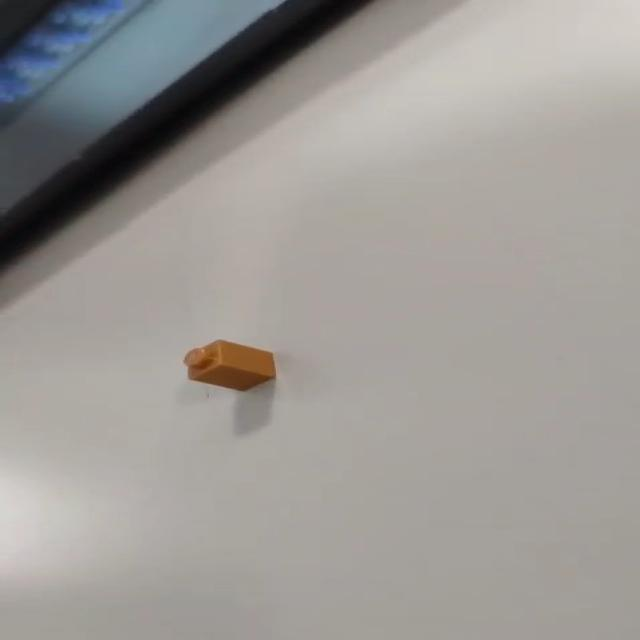C1x1x1: (181, 338, 277, 392)
